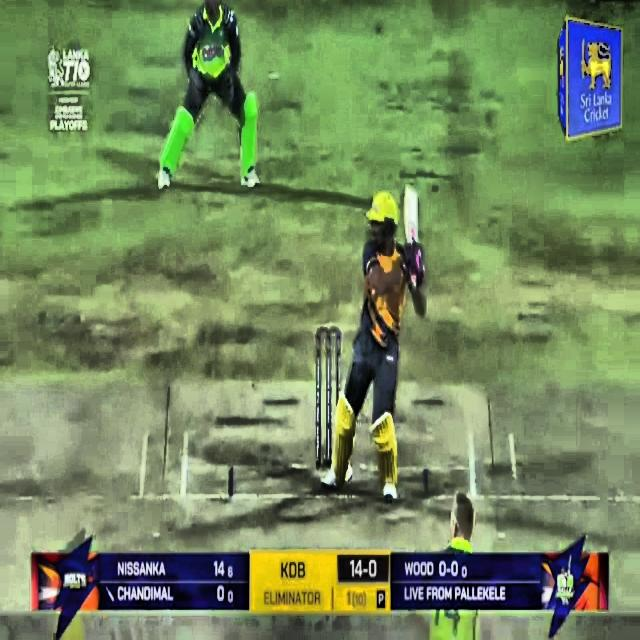Left-stump: (316, 333, 322, 466)
Middle-stump: (327, 335, 331, 465)
Right-stump: (336, 331, 342, 395)
